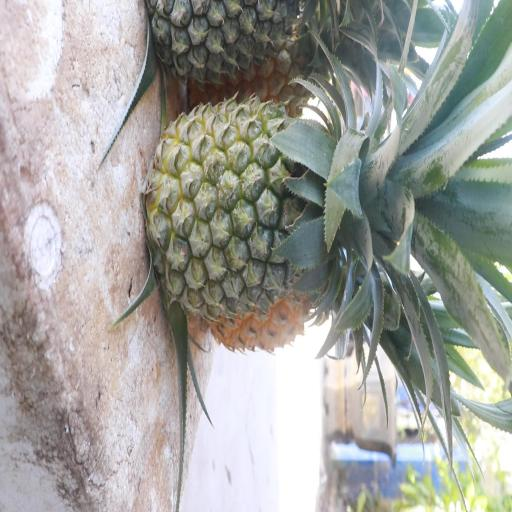------------------------------: (149, 96, 355, 318)
